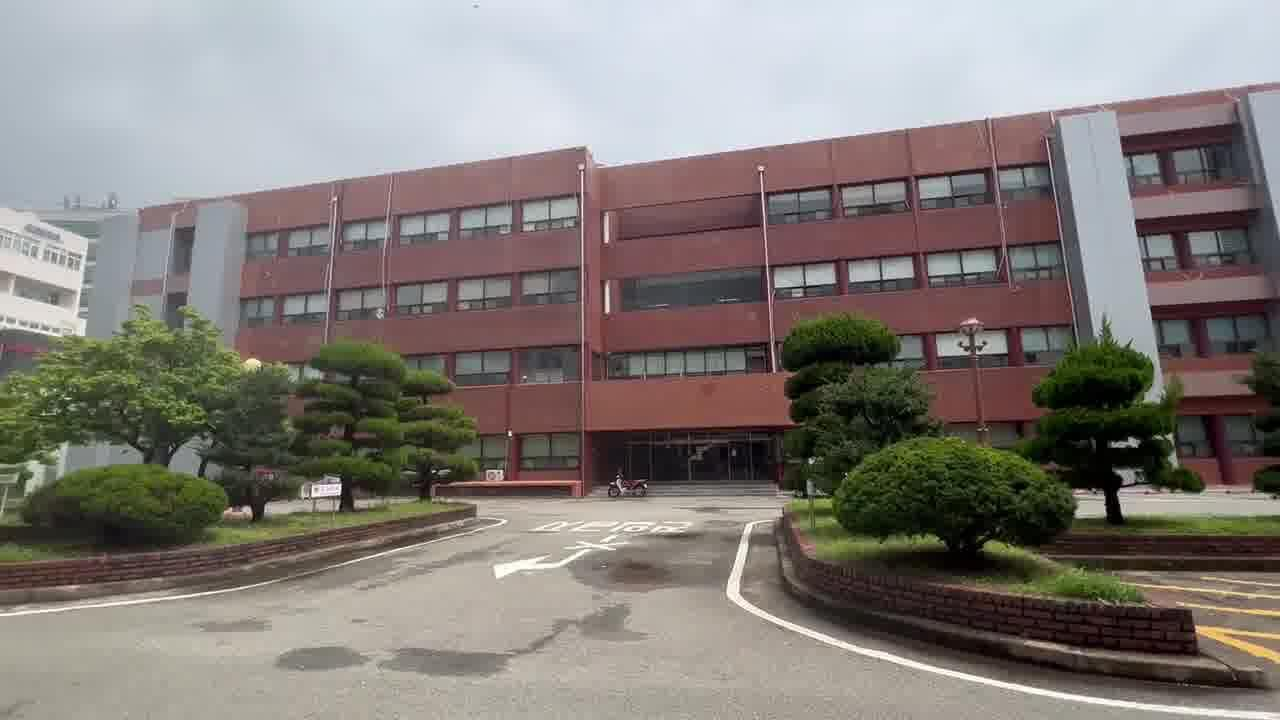building: (306, 161, 778, 360)
